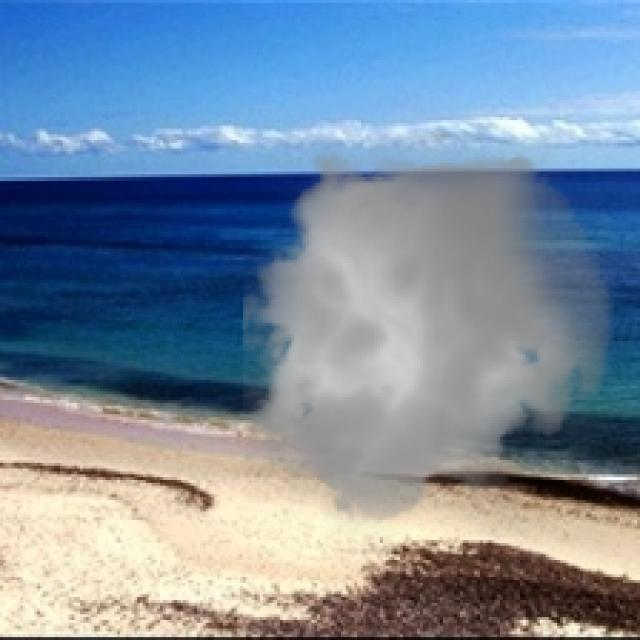Smoke: (225, 134, 626, 537)
